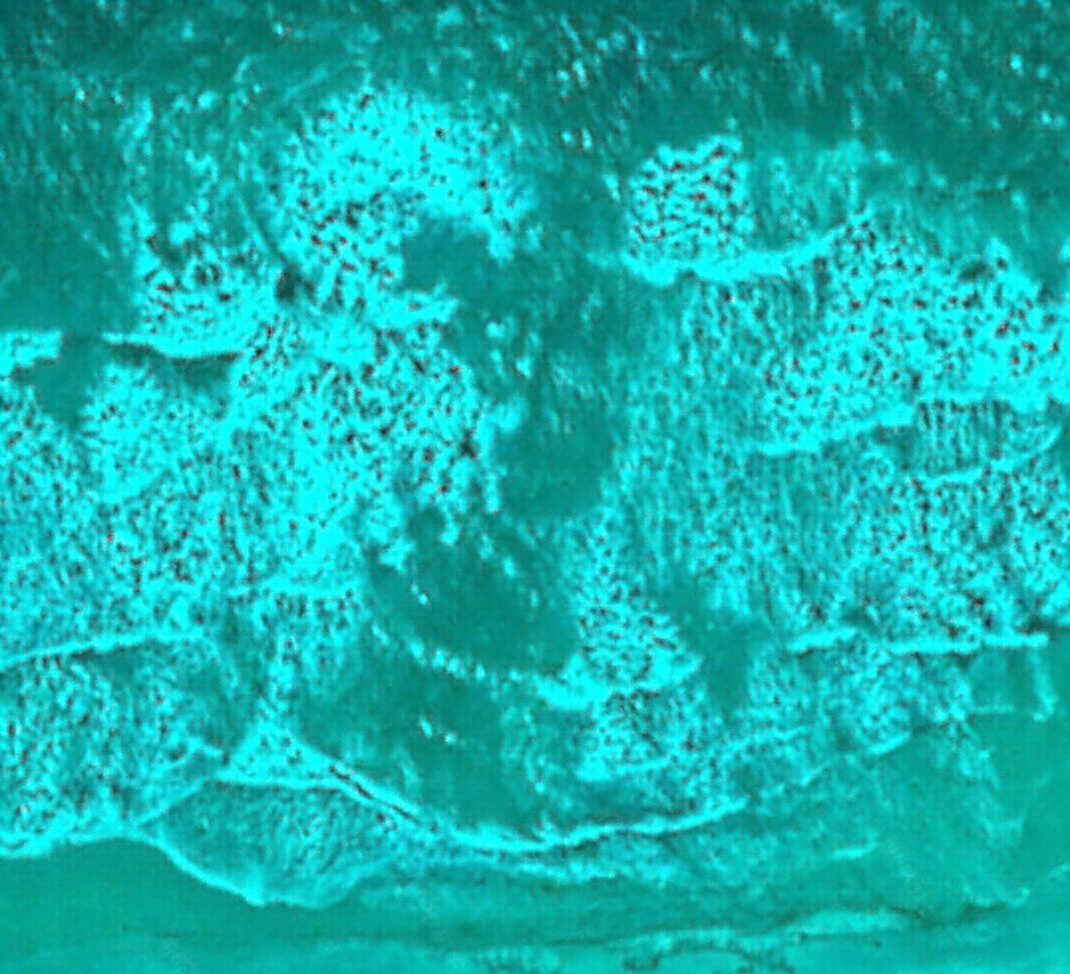rip_current: (302, 137, 696, 856)
